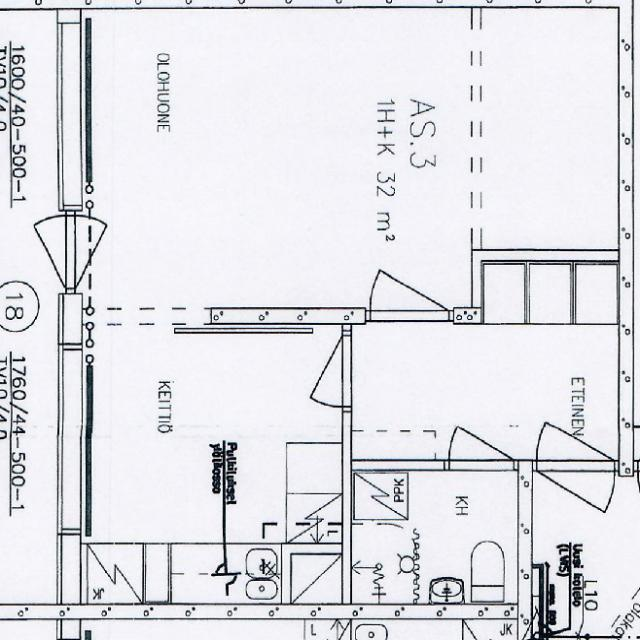door: (370, 225, 450, 325), (536, 383, 614, 472), (536, 461, 614, 549), (58, 216, 152, 288), (270, 334, 352, 406), (0, 216, 80, 288), (448, 396, 514, 472)
